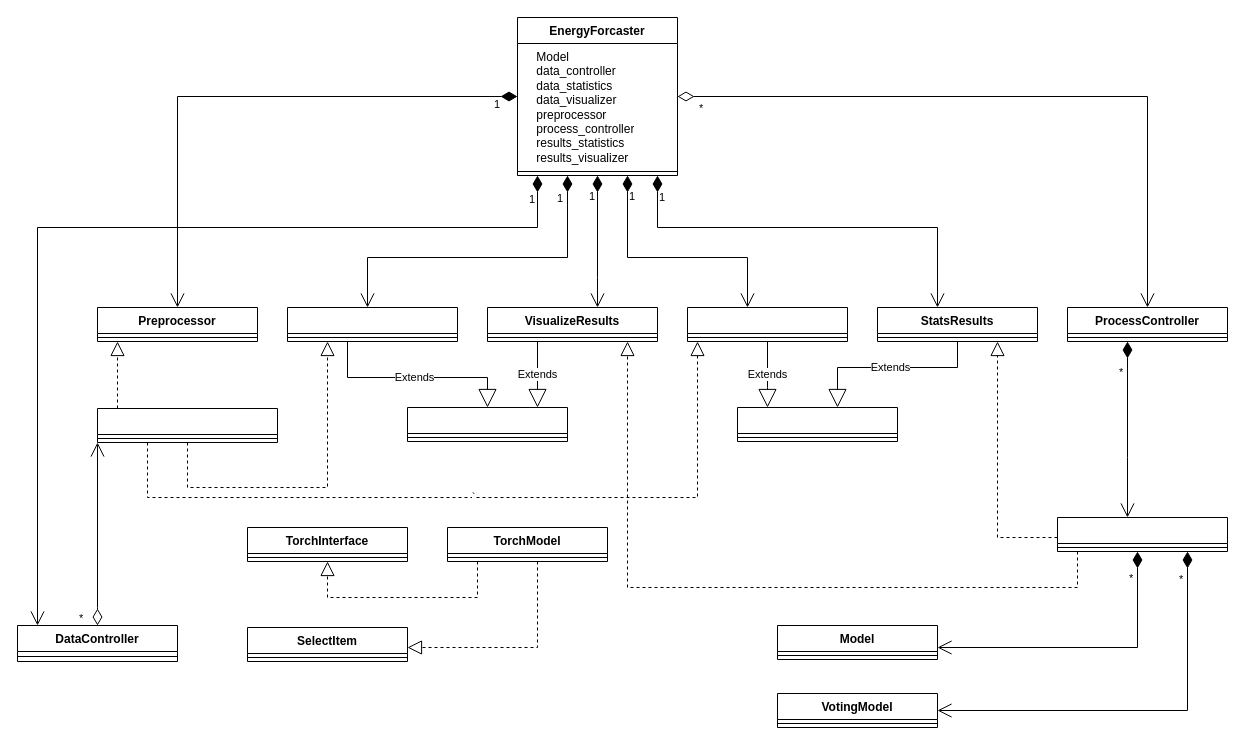
Image size: 1245x745. Some labels were removed from this diagram. Each missing label, with the box of its shape:
DTable: (96, 408, 278, 442)
Process: (1056, 516, 1228, 552)
Statistics: (736, 406, 898, 442)
StatsData: (686, 306, 848, 342)
VisualizeData: (286, 306, 458, 342)
Visualizer: (406, 406, 568, 442)
